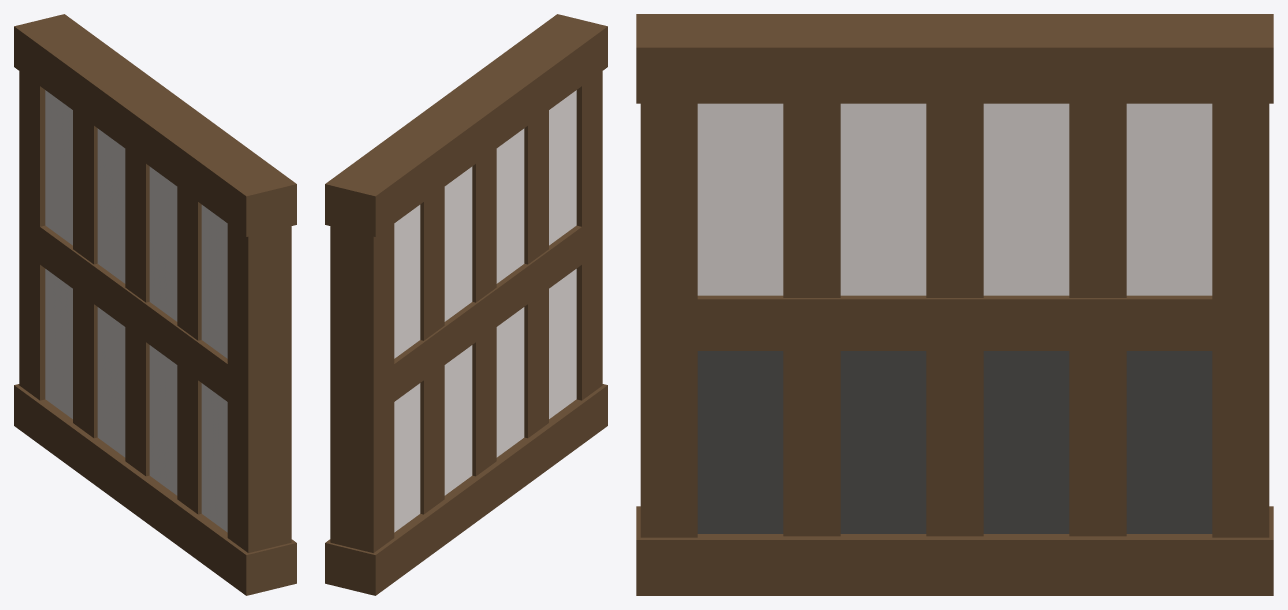
The model's file is Wall10.fbx.
3 views of the same model, side by side, from view 1: azimuth 30°, elevation 25°; view 2: azimuth 150°, elevation 25°; view 3: azimuth 270°, elevation 25° (orthographic). The views are drawn at different scales.
Visible parts, largest first — view 1: Wall_08; view 2: Wall_08; view 3: Wall_08.
Part boxes in pixels (left/top/right/bottom): Wall_08: left=14, top=14, right=296, bottom=595; Wall_08: left=325, top=14, right=607, bottom=595; Wall_08: left=636, top=14, right=1273, bottom=595.
Size of the model in its own units: 28 by 212 by 223.
